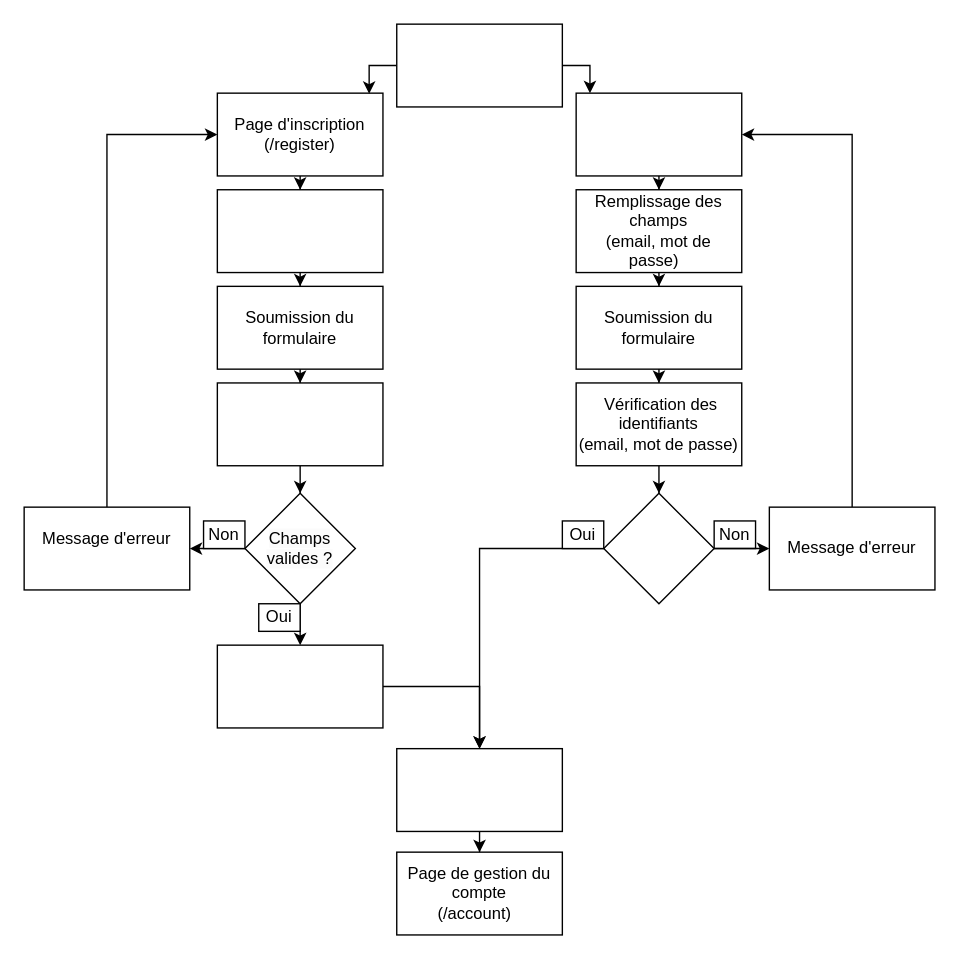
Image size: 959x967. Some labels were removed from this diagram. Each missing label, with the centre of its shape:
Création de compte (UserDao.addUser()): pixel 299 686
Identifiants corrects ?: pixel 658 548
Page de connexion (/login): pixel 658 134
Remplissage des champs: pixel 299 230
Start: pixel 478 65
Utilisateur authentifié: pixel 478 789
Validation des champs: pixel 299 424
